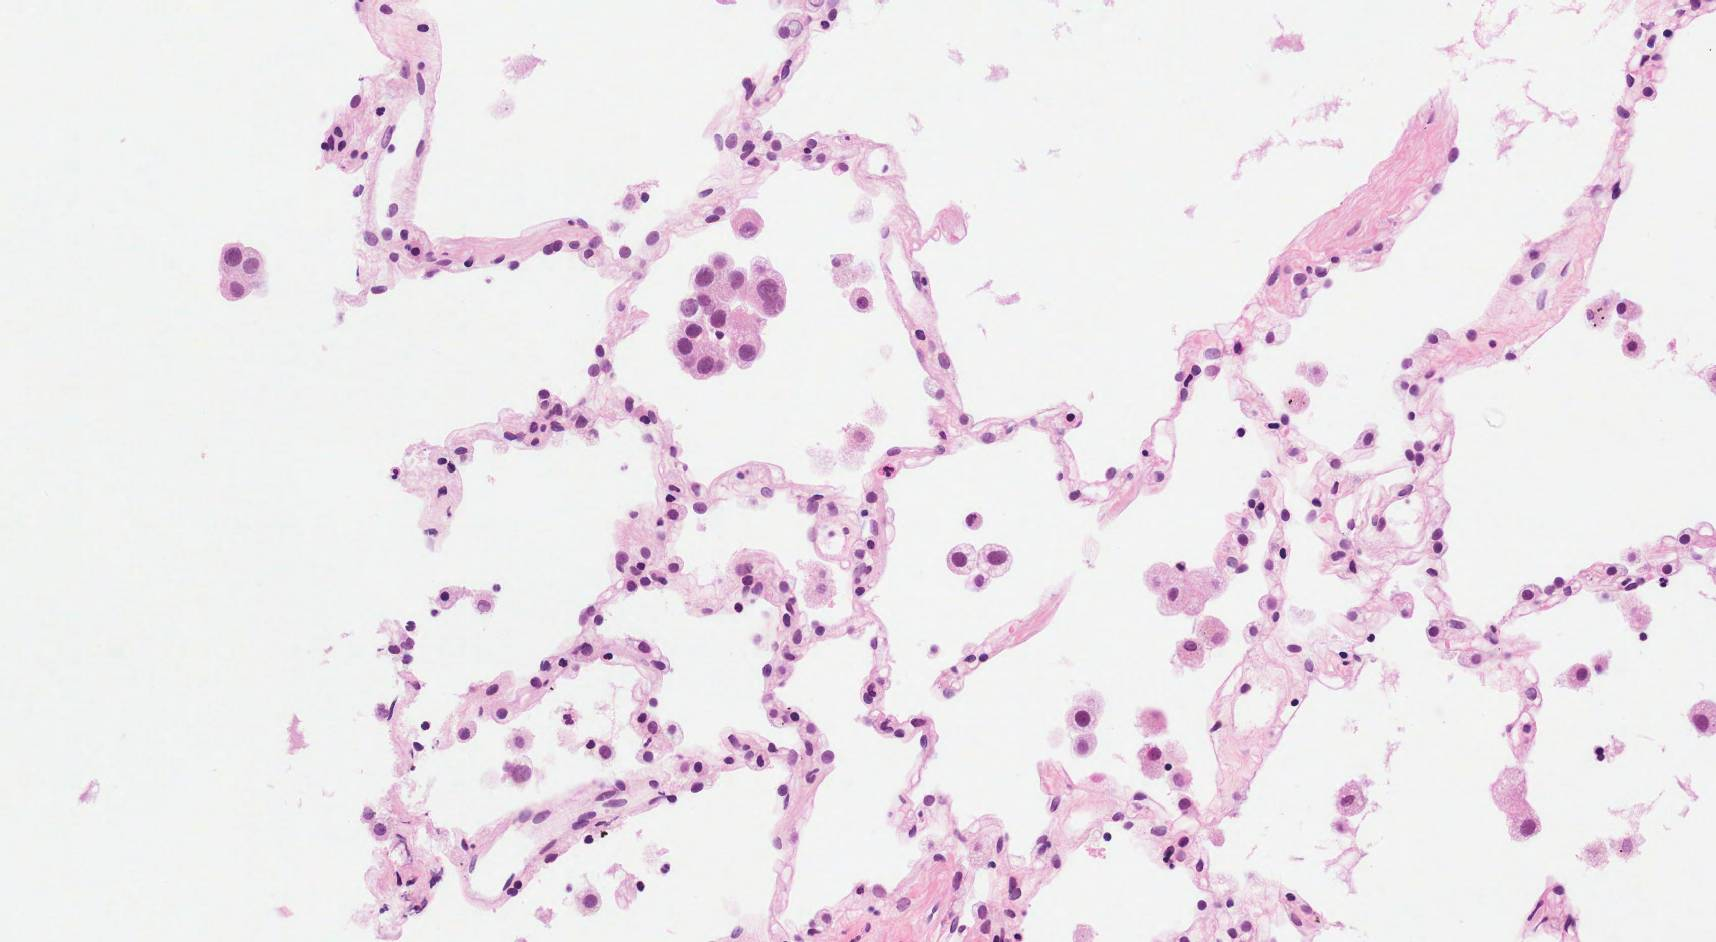stas: (673, 255, 787, 379), (221, 243, 262, 301)
